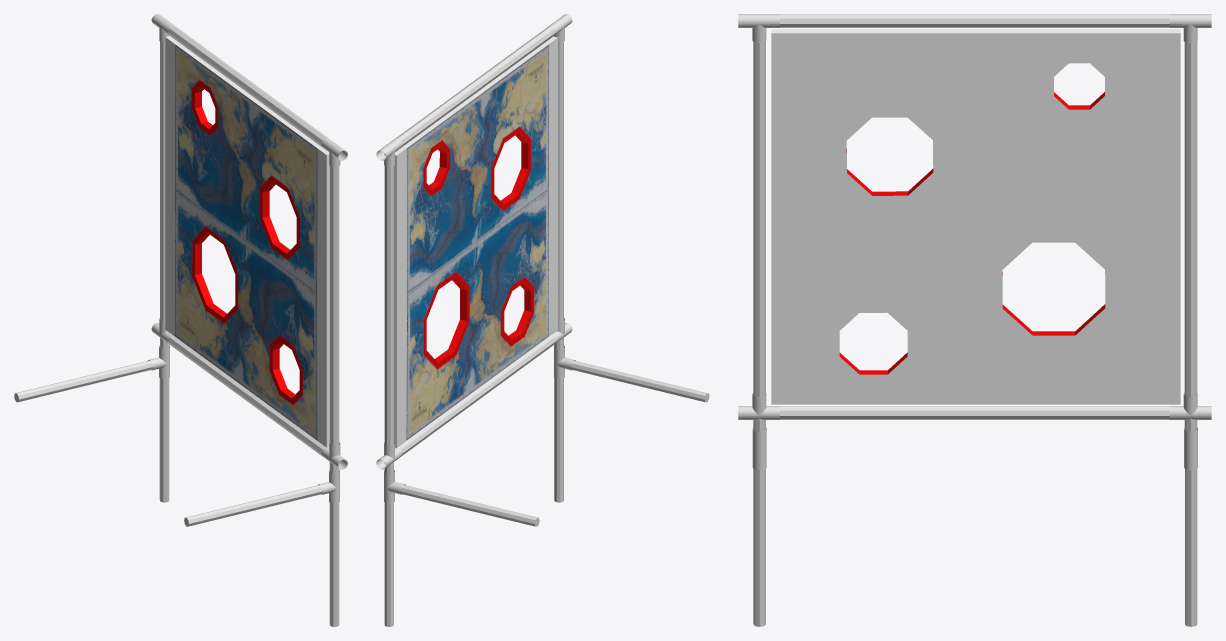
The model's file is mapping_torpedoes.dae.
3 views of the same model, side by side, from view 1: azimuth 30°, elevation 25°; view 2: azimuth 150°, elevation 25°; view 3: azimuth 270°, elevation 25° (orthographic). The views are drawn at different scales.
Parts seen in each view (by area): view 1: Cube, Tee Joint.005, Tee Joint.002, Tee Joint.003, Tee Joint.001, Tee Joint.004; view 2: Cube, Tee Joint.005, Tee Joint.002, Tee Joint.001, Tee Joint.004, Tee Joint.003; view 3: Cube, Tee Joint.002, Tee Joint.001, Tee Joint.004, Tee Joint.003, Tee Joint.005.
Part boxes in pixels (x1,y1,x2,y2): Cube: (165,36,329,447); Tee Joint.005: (14,360,339,626); Tee Joint.002: (148,318,347,503); Tee Joint.003: (329,154,339,473); Tee Joint.001: (151,14,347,166); Tee Joint.004: (160,41,169,348); Cube: (394,36,557,447); Tee Joint.005: (384,360,709,626); Tee Joint.002: (376,318,575,503); Tee Joint.001: (376,14,572,166); Tee Joint.004: (384,153,393,473); Tee Joint.003: (554,42,563,348); Cube: (771,29,1180,404); Tee Joint.002: (738,392,1211,470); Tee Joint.001: (738,14,1211,42); Tee Joint.004: (1184,41,1197,431); Tee Joint.003: (753,41,765,431); Tee Joint.005: (753,469,1197,626).
Bounding box in the file's own units: 0.3401 × 0.719 × 1.02.
1 material, 1 textured.
